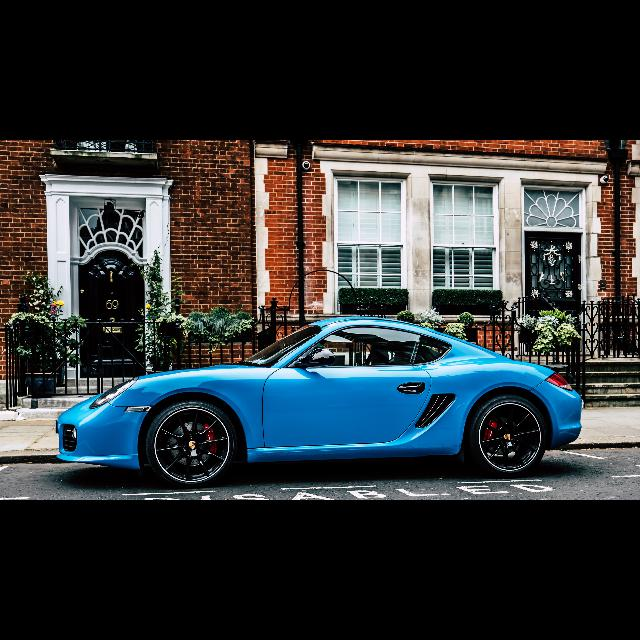cars: (47, 300, 589, 492)
